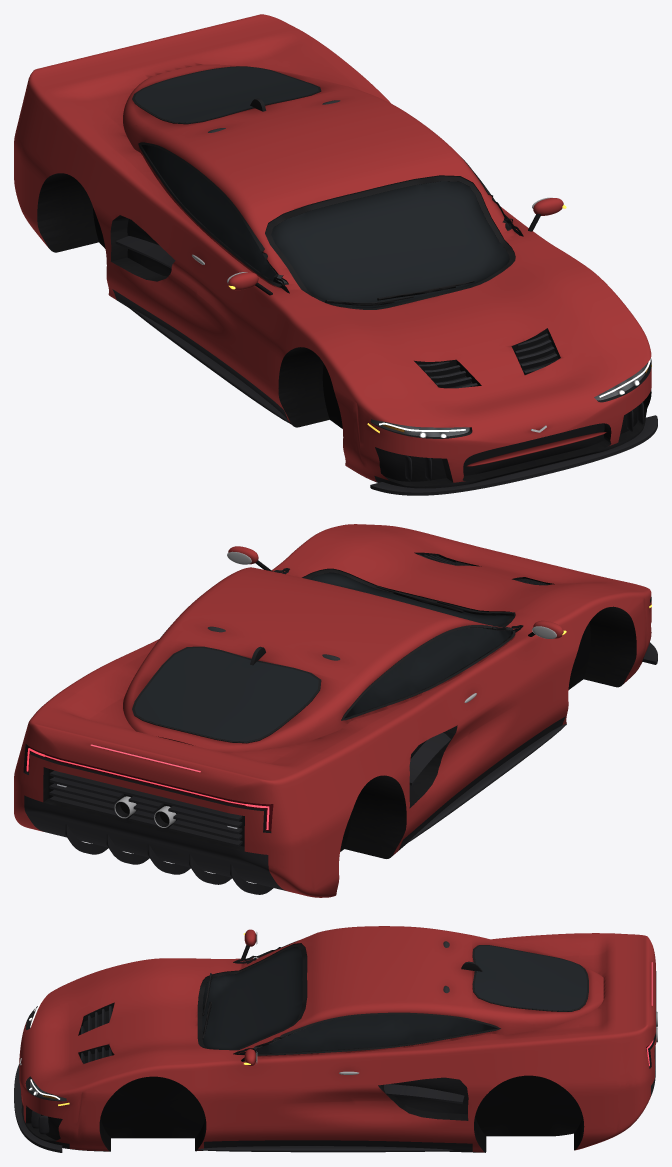
File: volt.glb
3 views of the same model, one above another, from view 1: azimuth 30°, elevation 25°; view 2: azimuth 150°, elevation 25°; view 3: azimuth 270°, elevation 25° (orthographic). The views are drawn at different scales.
Parts seen in each view (by area): view 1: paint, window, trim, carbon, glass, grille, head; view 2: paint, carbon, trim, glass, window, tail, chrome, tailglow; view 3: paint, trim, window, glass, carbon, grille.
Boxes of the visible parts, x1=… form: paint: x1=14, y1=14, x2=651, y2=482; window: x1=141, y1=145, x2=519, y2=308; trim: x1=37, y1=66, x2=651, y2=486; carbon: x1=112, y1=236, x2=657, y2=495; glass: x1=134, y1=67, x2=318, y2=122; grille: x1=127, y1=219, x2=643, y2=481; head: x1=370, y1=362, x2=648, y2=436; paint: x1=14, y1=524, x2=651, y2=897; carbon: x1=24, y1=554, x2=657, y2=894; trim: x1=23, y1=552, x2=651, y2=858; glass: x1=134, y1=648, x2=318, y2=741; window: x1=282, y1=571, x2=518, y2=717; tail: x1=25, y1=745, x2=273, y2=831; chrome: x1=114, y1=551, x2=556, y2=827; tailglow: x1=26, y1=744, x2=269, y2=829; paint: x1=19, y1=926, x2=656, y2=1152; trim: x1=21, y1=940, x2=656, y2=1152; window: x1=202, y1=947, x2=496, y2=1053; glass: x1=474, y1=946, x2=586, y2=1010; carbon: x1=14, y1=1006, x2=655, y2=1152; grille: x1=41, y1=1009, x2=468, y2=1139.
Size of what is drawn, in the model's own units: 2.19 by 1.07 by 4.55.
